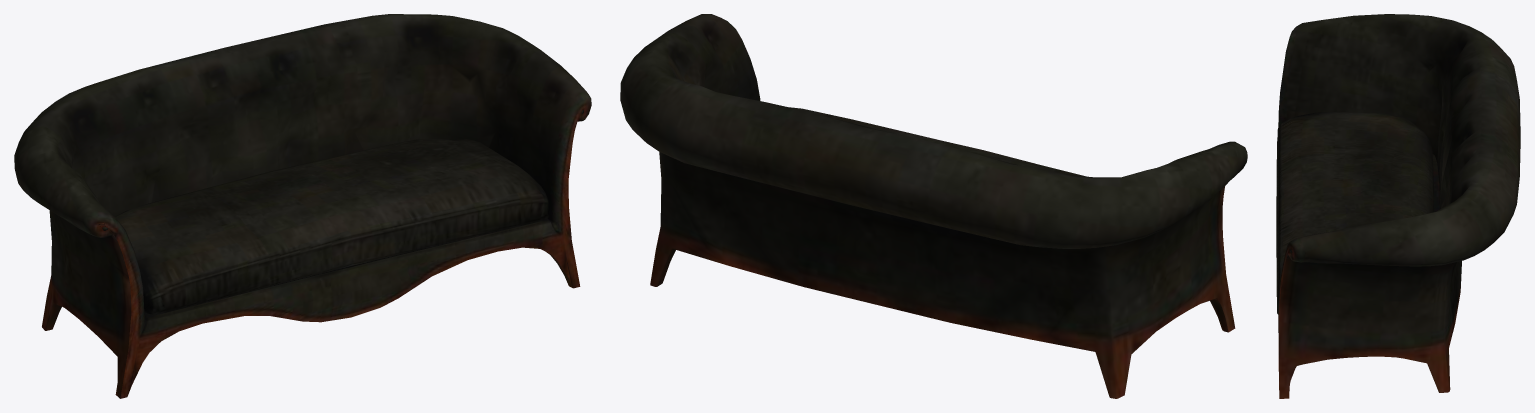
The model's file is sofa_02.glb.
The picture shows the model from 3 angles, left to right: view 1: azimuth 30°, elevation 25°; view 2: azimuth 150°, elevation 25°; view 3: azimuth 270°, elevation 25°; orthographic projection. The views are drawn at different scales.
Visible parts, largest first — view 1: sofa_02_Base, sofa_02_Seat; view 2: sofa_02_Base, sofa_02_Seat; view 3: sofa_02_Base, sofa_02_Seat.
Boxes of the visible parts, box(x1,y1,x2,y2) form: sofa_02_Base: box(14, 14, 591, 398); sofa_02_Seat: box(115, 139, 549, 314); sofa_02_Base: box(620, 14, 1247, 398); sofa_02_Seat: box(789, 107, 1086, 176); sofa_02_Base: box(1278, 14, 1520, 398); sofa_02_Seat: box(1276, 112, 1433, 314).
Size of the model in its own units: 1.81 by 0.7095 by 0.8178.
1 material, 1 textured.
